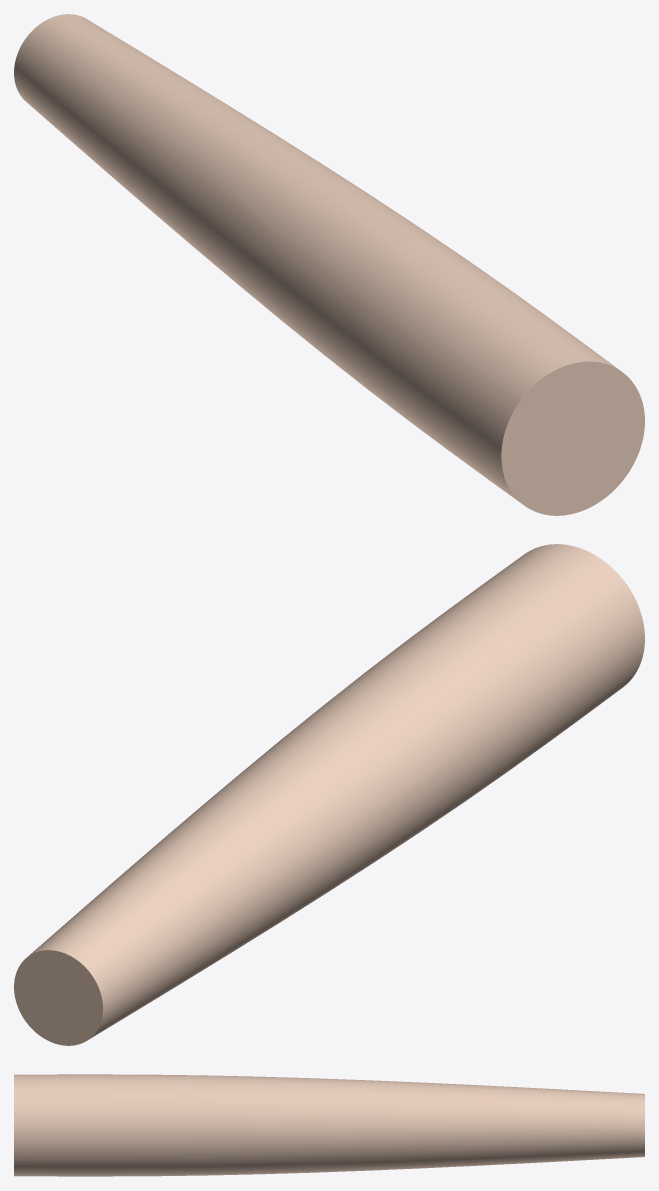
3 views of the same model, one above another, from view 1: azimuth 30°, elevation 25°; view 2: azimuth 150°, elevation 25°; view 3: azimuth 270°, elevation 25° (orthographic). The views are drawn at different scales.
Parts seen in each view (by area): view 1: rod_skin; view 2: rod_skin; view 3: rod_skin.
Boxes of the visible parts, box(x1,y1,x2,y2) form: rod_skin: box(14, 14, 644, 515); rod_skin: box(14, 544, 644, 1045); rod_skin: box(14, 1074, 644, 1176).
Bounding box in the file's own units: 0.0226 × 0.0226 × 0.14.
